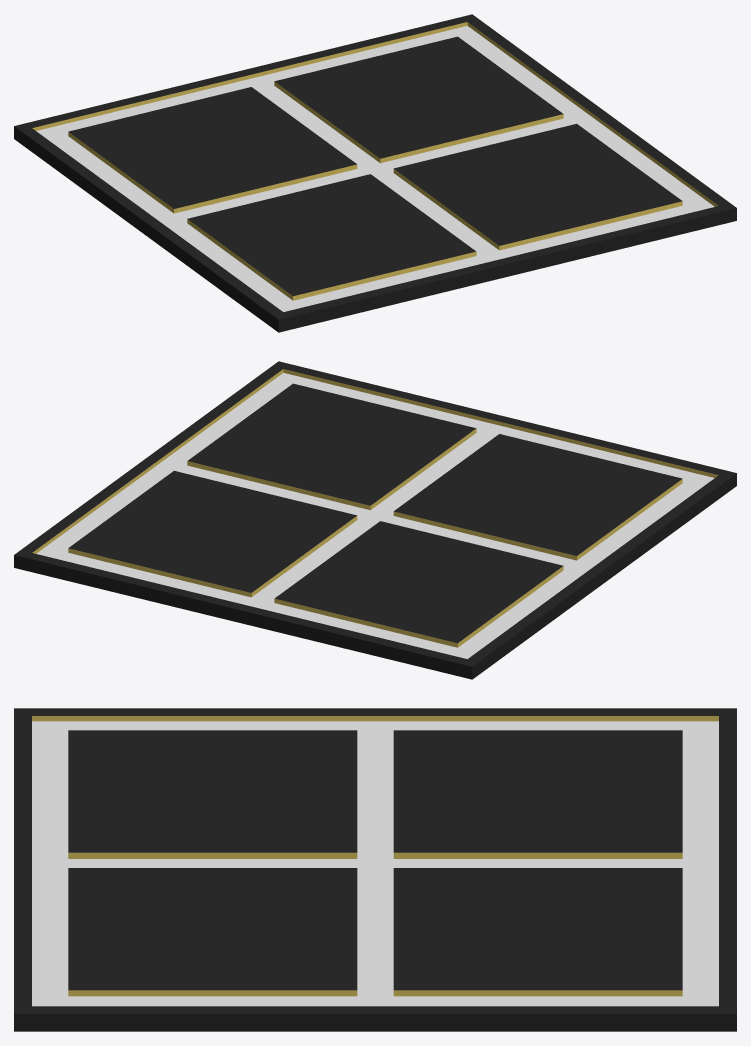
Rendered from FloorPaneledCrossWithBottom.fbx.
3 renders of one model, top to bottom at view 1: azimuth 30°, elevation 25°; view 2: azimuth 150°, elevation 25°; view 3: azimuth 270°, elevation 25°, orthographic. The views are drawn at different scales.
Visible parts, largest first — view 1: Cube.001, Cube.002; view 2: Cube.001, Cube.002; view 3: Cube.001, Cube.002.
Part boxes in pixels (box(x1,y1,x2,y2)): Cube.001: box(14, 14, 736, 326); Cube.002: box(14, 133, 736, 332); Cube.001: box(14, 361, 736, 673); Cube.002: box(14, 480, 736, 679); Cube.001: box(14, 708, 736, 1022); Cube.002: box(14, 1022, 736, 1031).
Size of the model in its own units: 400 by 11.27 by 400.
